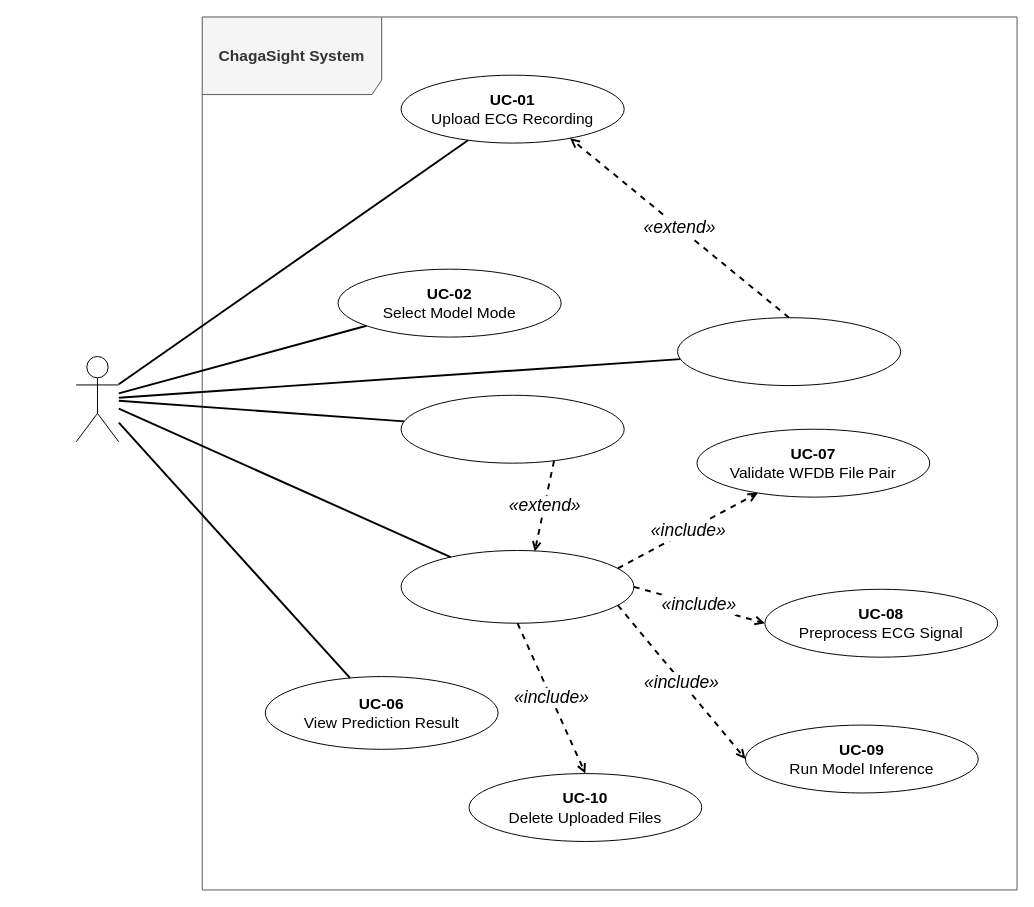
Some shapes in this 1034 by 907 pixel diagram are drawn without their labels. The shapes that lost their labels are listed below. From the top down, each one's centre as x and y in pixels, then its label:
At pixel 789 351: "UC-04 Load Sample ECG".
At pixel 97 399: "Clinician / Researcher".
At pixel 512 428: "UC-03 Enter Patient Demographics".
At pixel 517 586: "UC-05 Request Chagas Screening".
